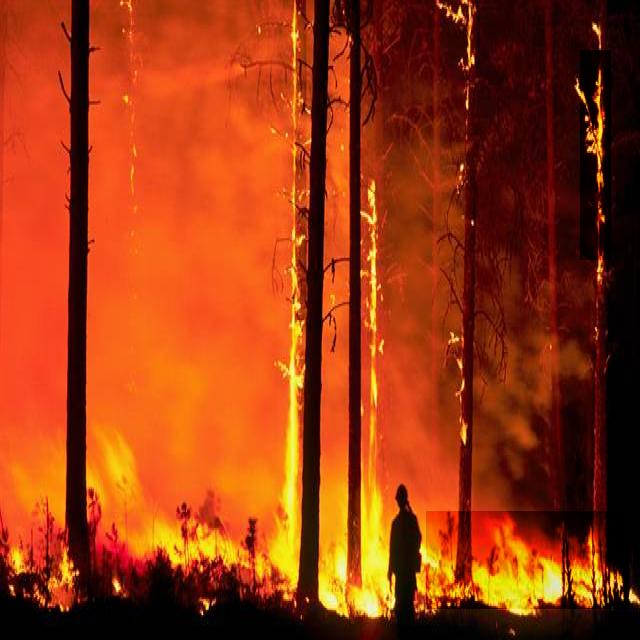Fire: (279, 26, 383, 606), (426, 511, 629, 609), (580, 50, 611, 260)
Smoke: (28, 72, 256, 493)
